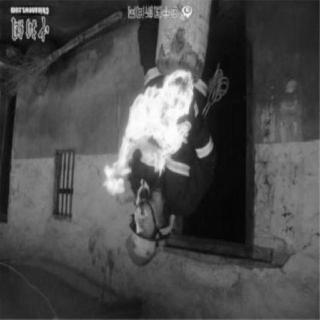Fire: (88, 65, 212, 241)
